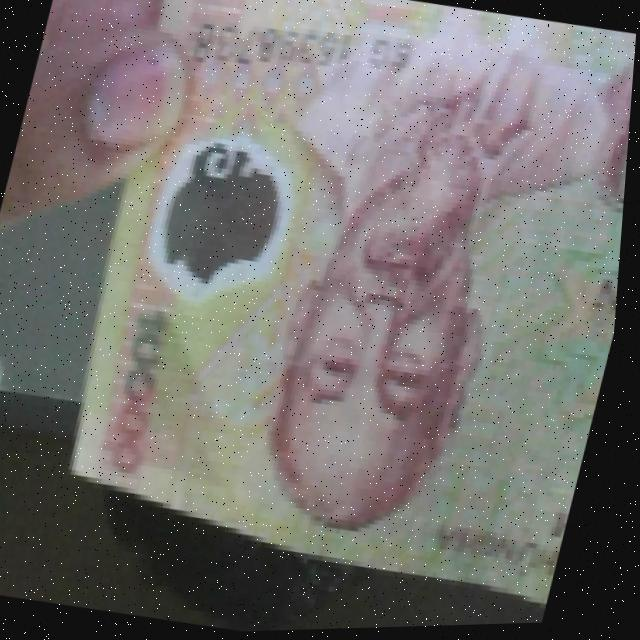10 000 VND: (27, 0, 640, 633)
